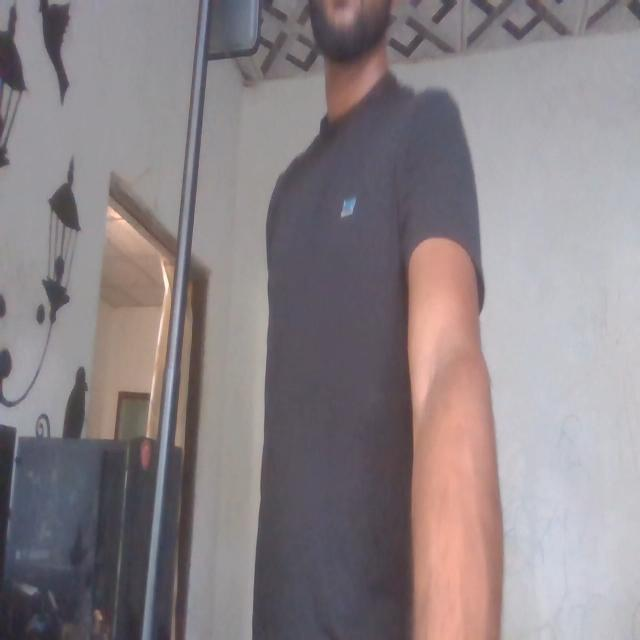Person: (266, 0, 498, 640)
